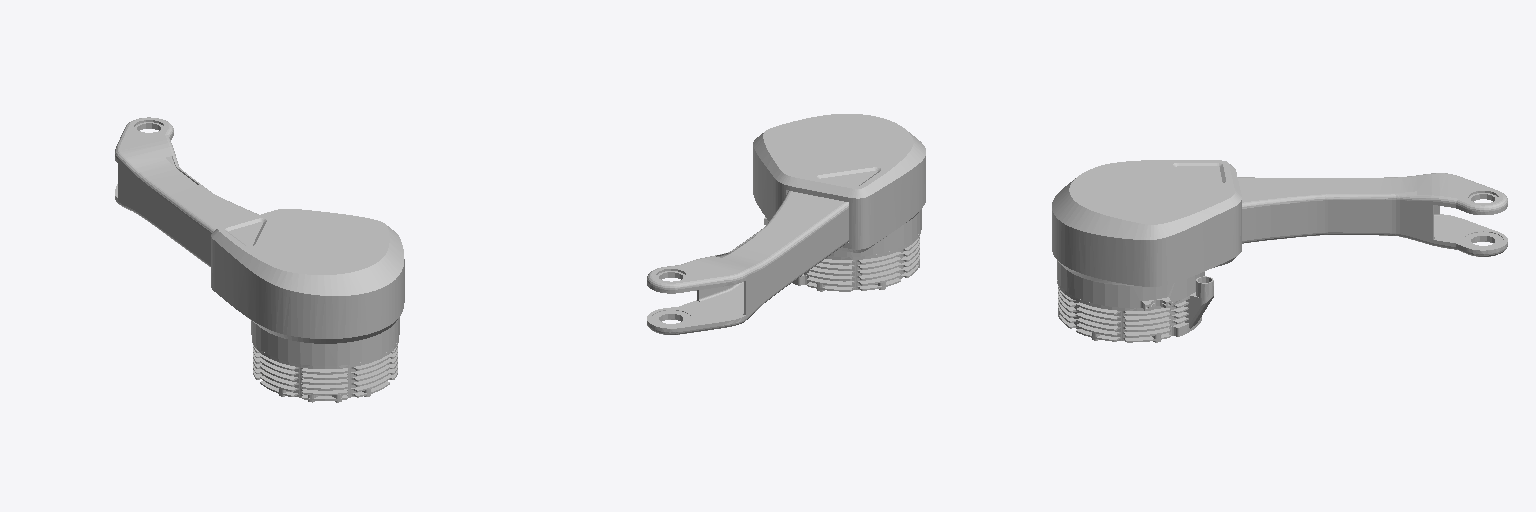
Rendered from l_thigh.obj.
3 renders of one model, left to right at view 1: azimuth 30°, elevation 25°; view 2: azimuth 150°, elevation 25°; view 3: azimuth 270°, elevation 25°, orthographic.
Visible parts, largest first — view 1: hl_thigh; view 2: hl_thigh; view 3: hl_thigh.
Boxes of the visible parts, box(x1,y1,x2,y2) form: hl_thigh: box(115, 117, 404, 402); hl_thigh: box(647, 114, 925, 334); hl_thigh: box(1052, 160, 1507, 342).
Bounding box in the file's own units: 0.1479 × 0.1185 × 0.3883.